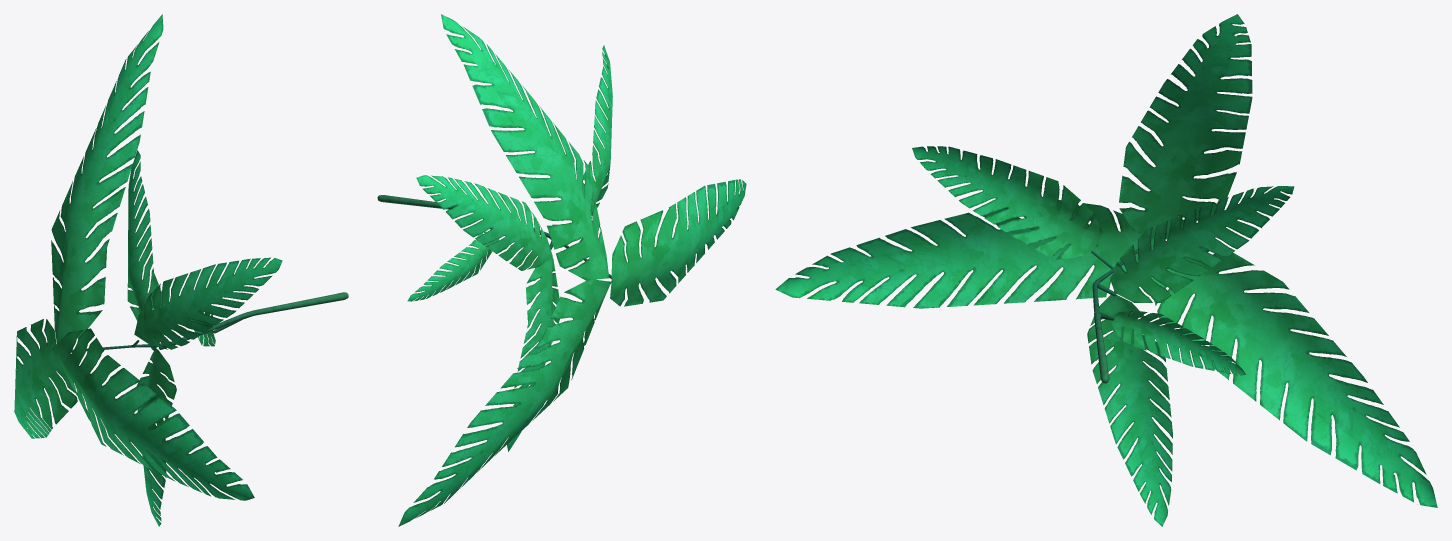
The model's file is Fern2.fbx.
3 renders of one model, left to right at view 1: azimuth 30°, elevation 25°; view 2: azimuth 150°, elevation 25°; view 3: azimuth 270°, elevation 25°, orthographic. The views are drawn at different scales.
Visible parts, largest first — view 1: Fern; view 2: Fern; view 3: Fern.
Boxes of the visible parts, box(x1,y1,x2,y2) form: Fern: box(14, 14, 348, 526); Fern: box(377, 14, 746, 526); Fern: box(775, 14, 1437, 526).
Bounding box in the file's own units: 166 × 147 × 92.19.
